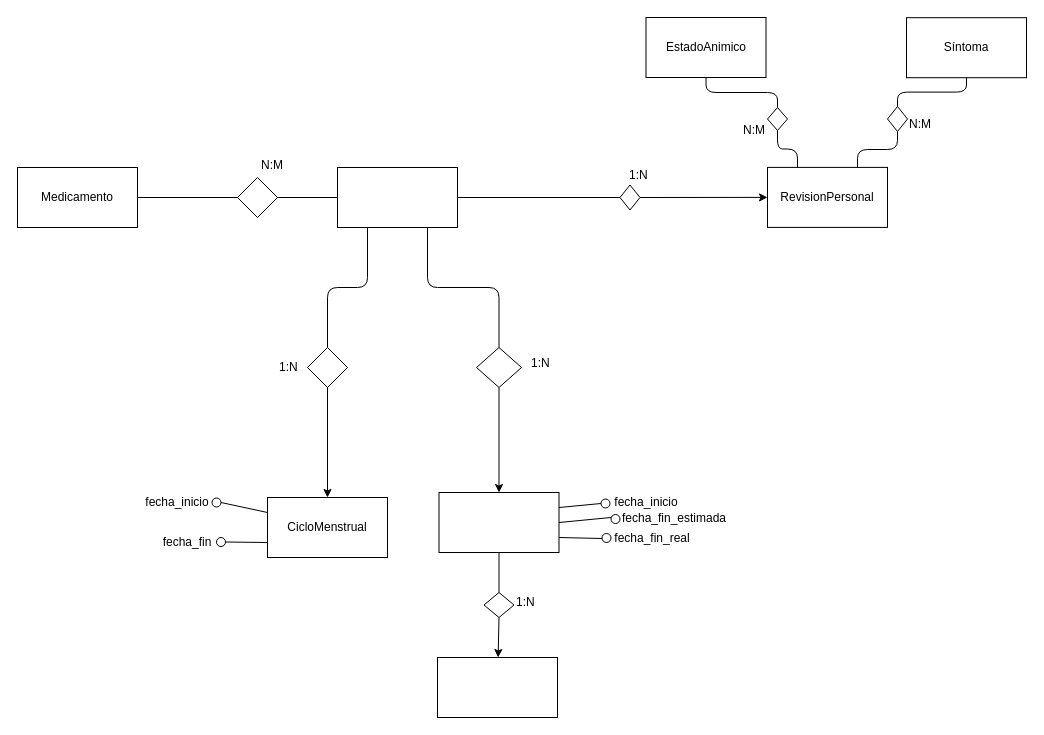
This 1044x735 diagram has some shape labels left out. The shapes that lost their labels are listed below. From the top down, each one's centre as x and y in pixels, then its label:
the point at 397,197: Usuaria
the point at 498,522: Embarazo
the point at 497,687: RevisionMedica
